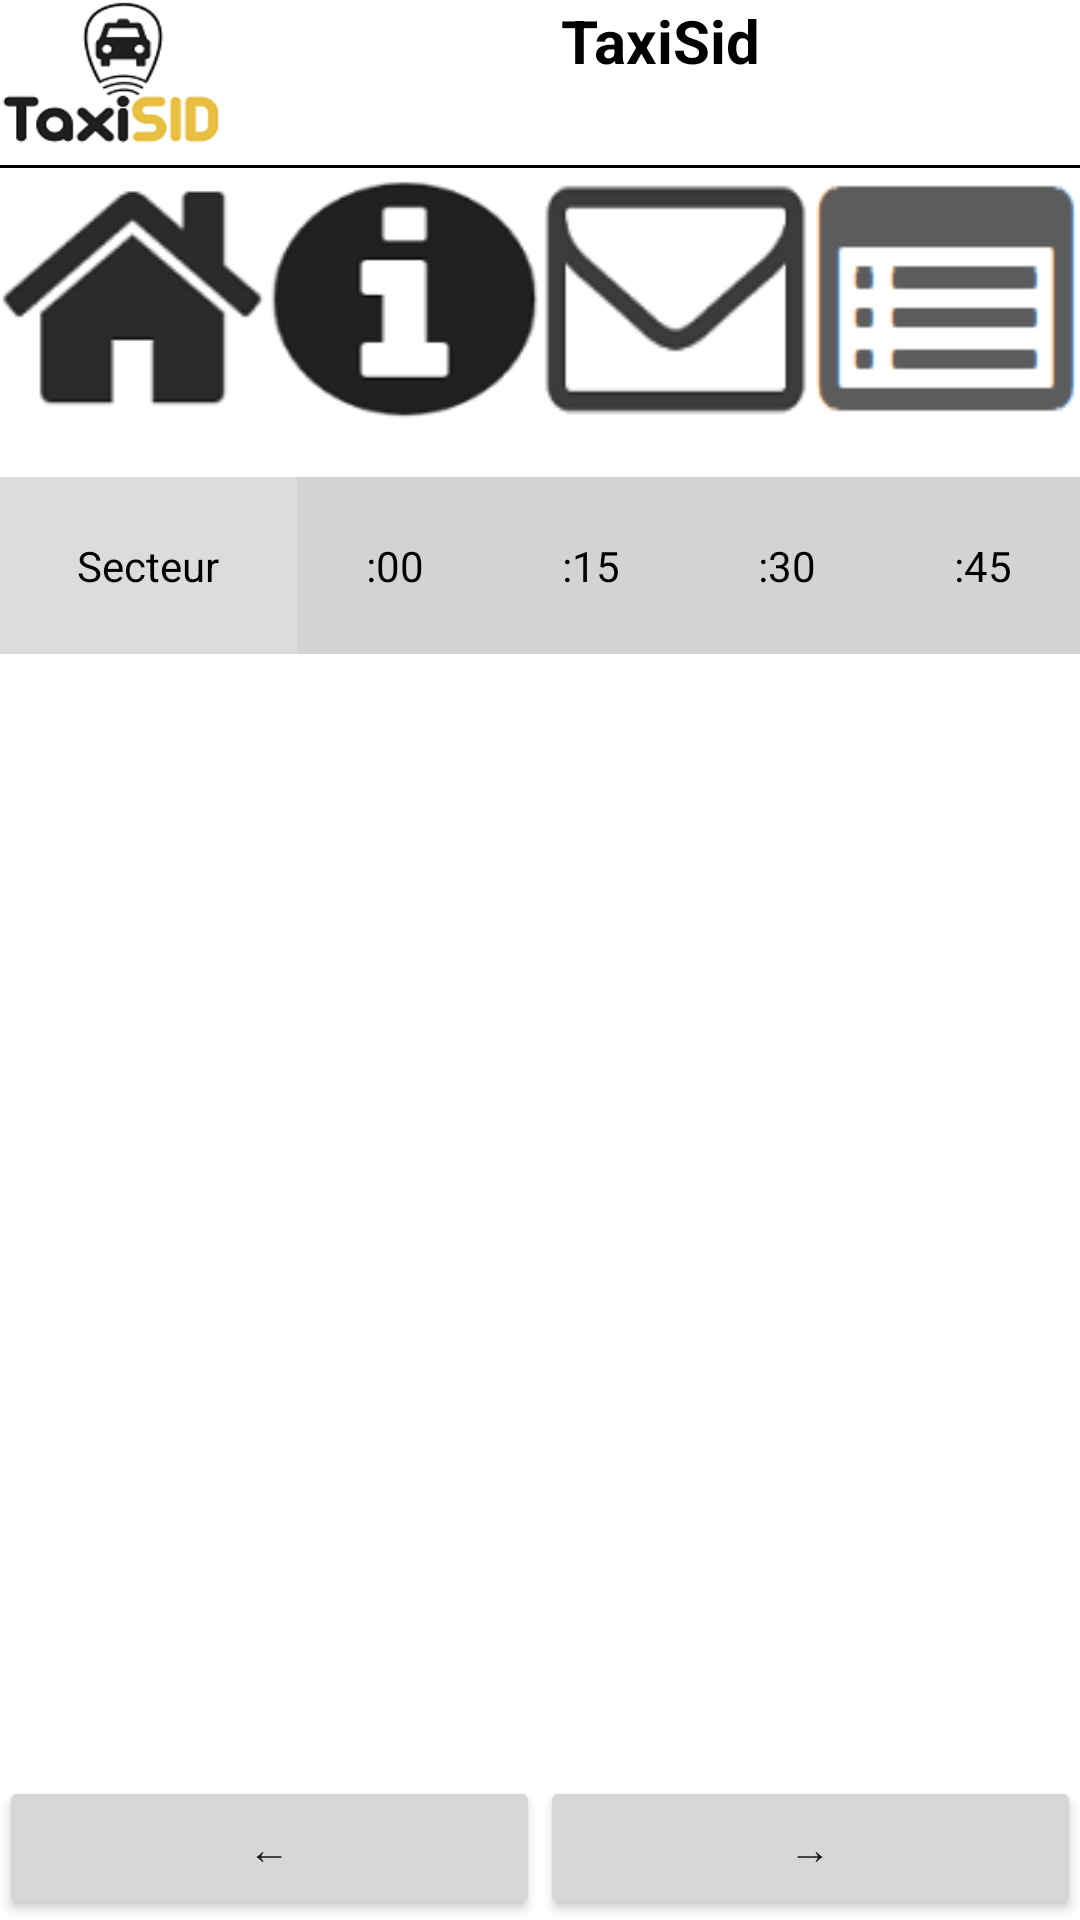

Point at icon controls on the screen. Image size 1080 × 1920, points as point (x, y).
enveloppe: point (675, 299)
home: point (132, 298)
